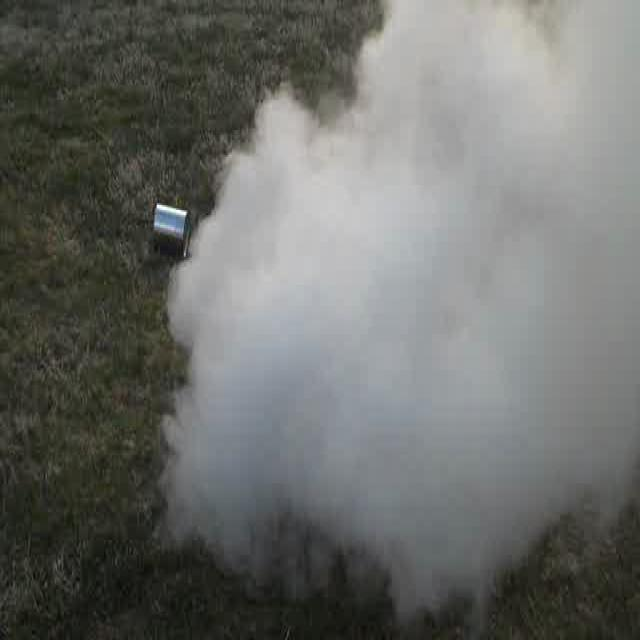Smoke: (183, 10, 638, 580)
